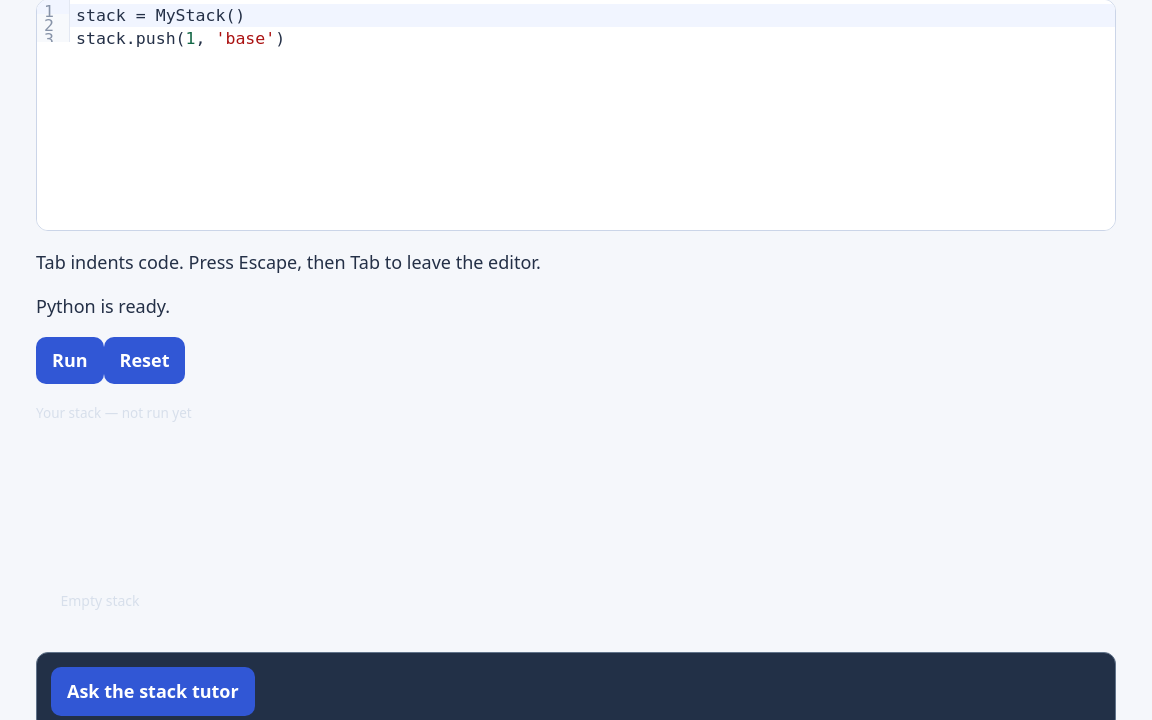
Test: StairwayRepairRoom › shows missing-stone feedback without unlocking the gate
The width and height of the screenshot is (1152, 720).
(page scrolled)
Click the button "Run": (70, 361) [36,338,104,384]
(page scrolled)
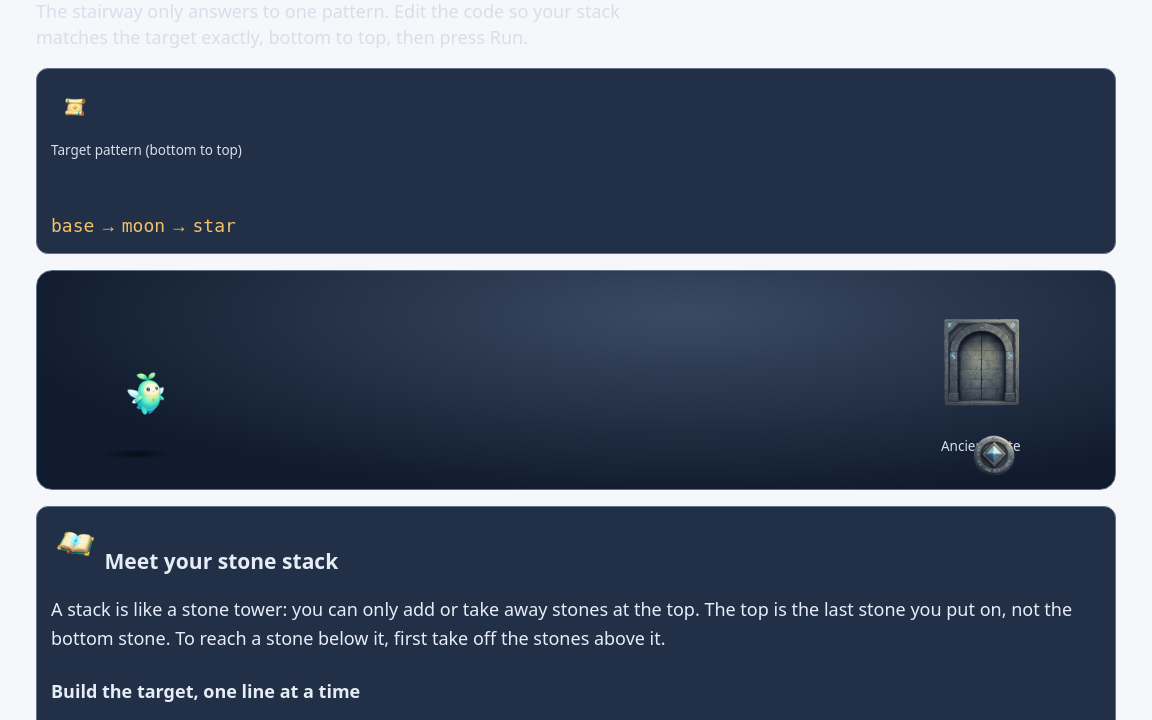
Expected: the picture with alt text "A closed stone ruins door" is shown, [933,297,1029,425]
